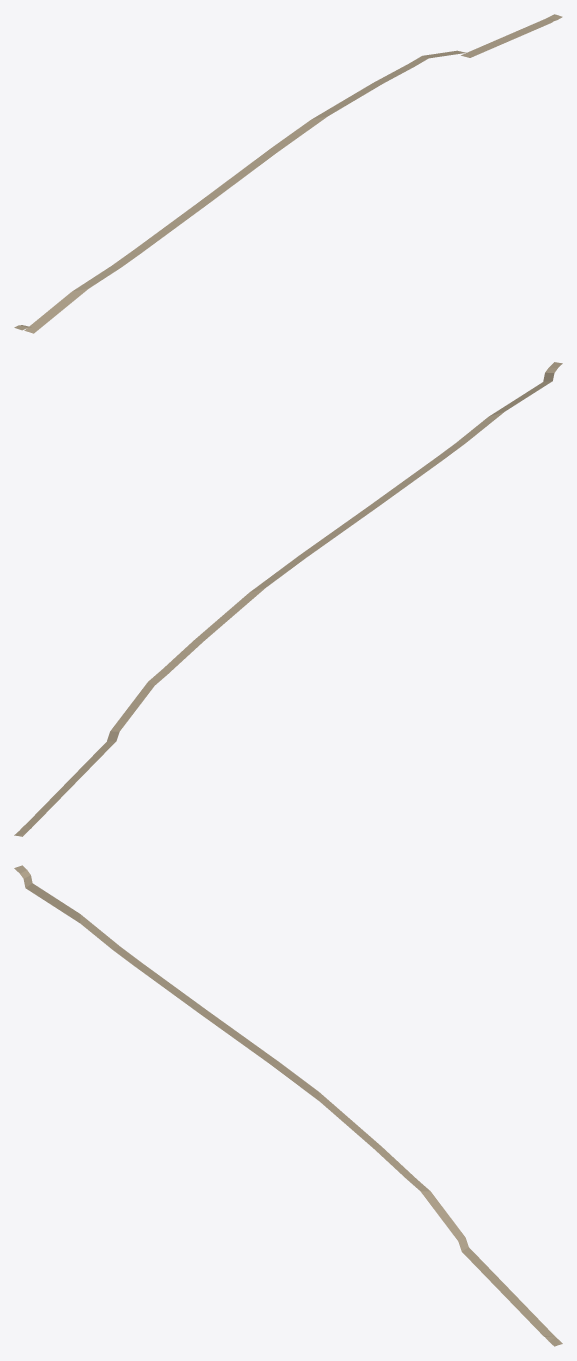
The model's file is farm_-6_7_track.glb.
3 renders of one model, top to bottom at view 1: azimuth 30°, elevation 25°; view 2: azimuth 210°, elevation 25°; view 3: azimuth 270°, elevation 25°, orthographic.
Visible parts, largest first — view 1: geometry_0; view 2: geometry_0; view 3: geometry_0.
Part boxes in pixels (<box>): geometry_0: <box>14,14,562,333</box>; geometry_0: <box>14,362,562,836</box>; geometry_0: <box>14,865,562,1346</box>.
Size of the model in its own units: 316 by 30.04 by 184.
